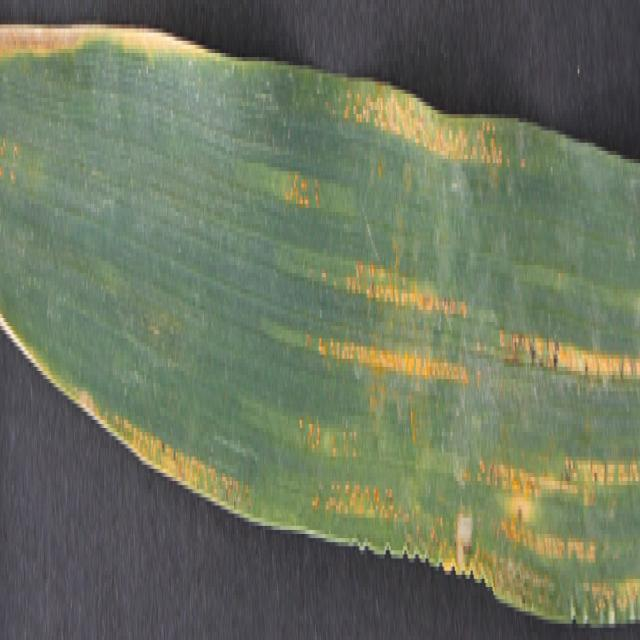leaf rust: (282, 66, 639, 612)
